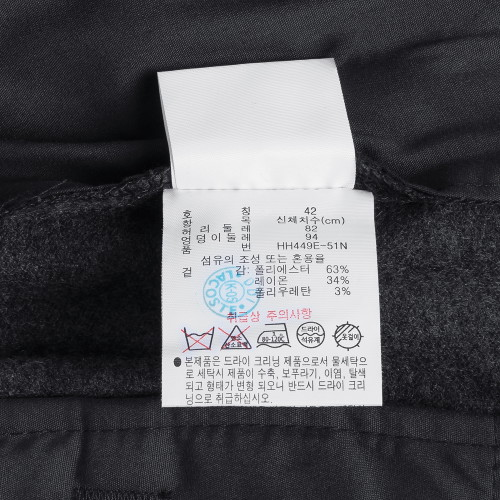KR_dry_clean_petroleum: (294, 320, 327, 349)
KR_hang_dry_in_shade: (330, 321, 364, 351)
KR_iron_low_temp_with_cloth: (255, 320, 292, 350)
KR_no_bleach: (218, 324, 254, 353)
KR_no_wash: (181, 323, 215, 353)
